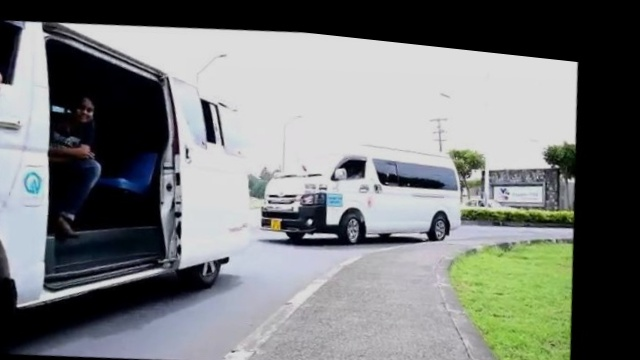van: (252, 129, 477, 265)
